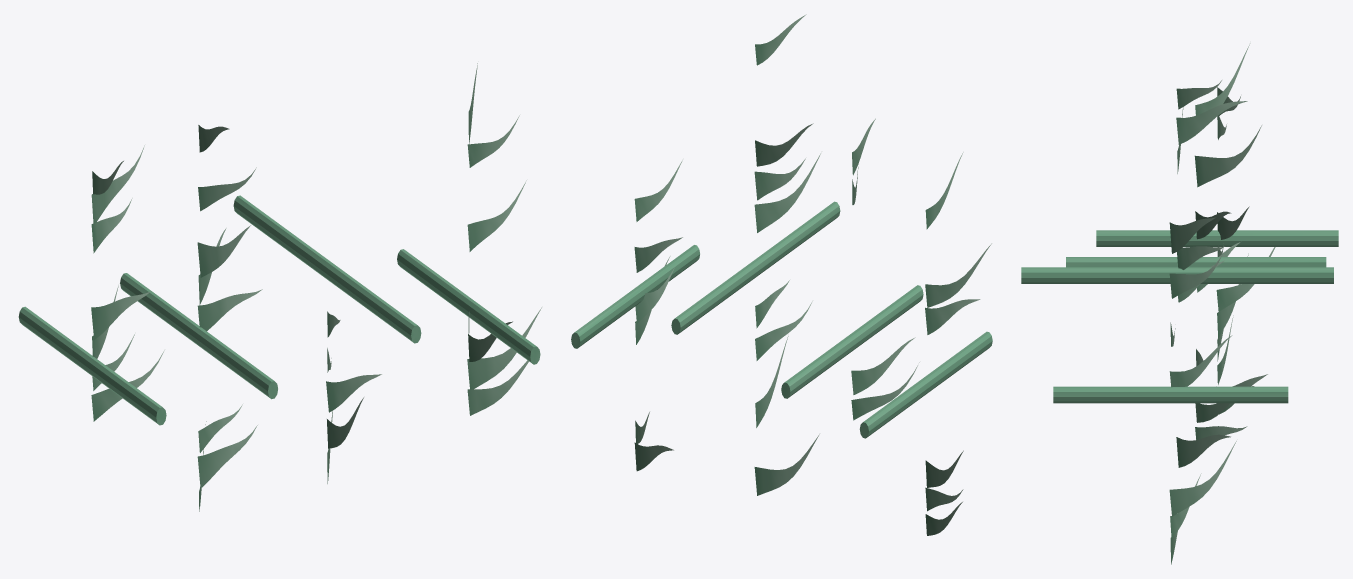
Rendered from mesh-plant-045-bamboo-stem_LOD0.glb.
3 renders of one model, left to right at view 1: azimuth 30°, elevation 25°; view 2: azimuth 150°, elevation 25°; view 3: azimuth 270°, elevation 25°, orthographic. The views are drawn at different scales.
Visible parts, largest first — view 1: geometry_0; view 2: geometry_0; view 3: geometry_0.
Part boxes in pixels (x1,y1,x2,y2): geometry_0: (18,63,541,511); geometry_0: (571,14,992,535); geometry_0: (1021,43,1338,564).
Size of the model in its own units: 1.83 by 2 by 1.21.
